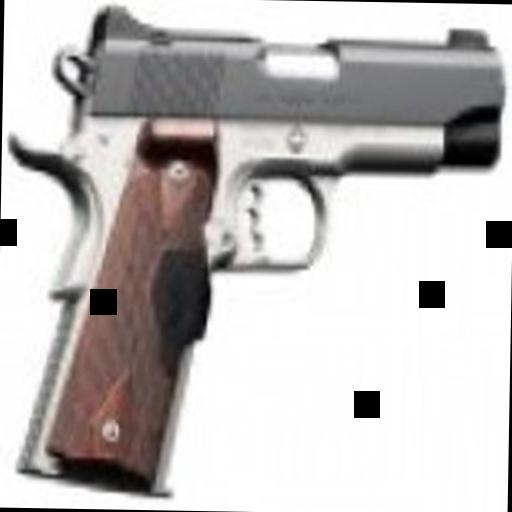Handgun: (1, 2, 502, 498)
